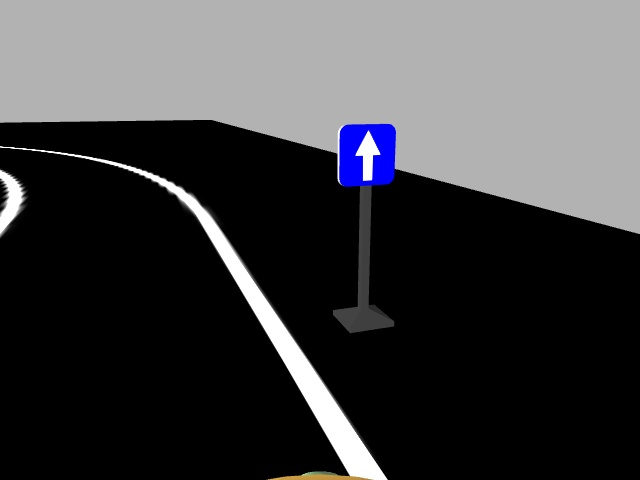OneWay: (337, 123, 394, 185)
